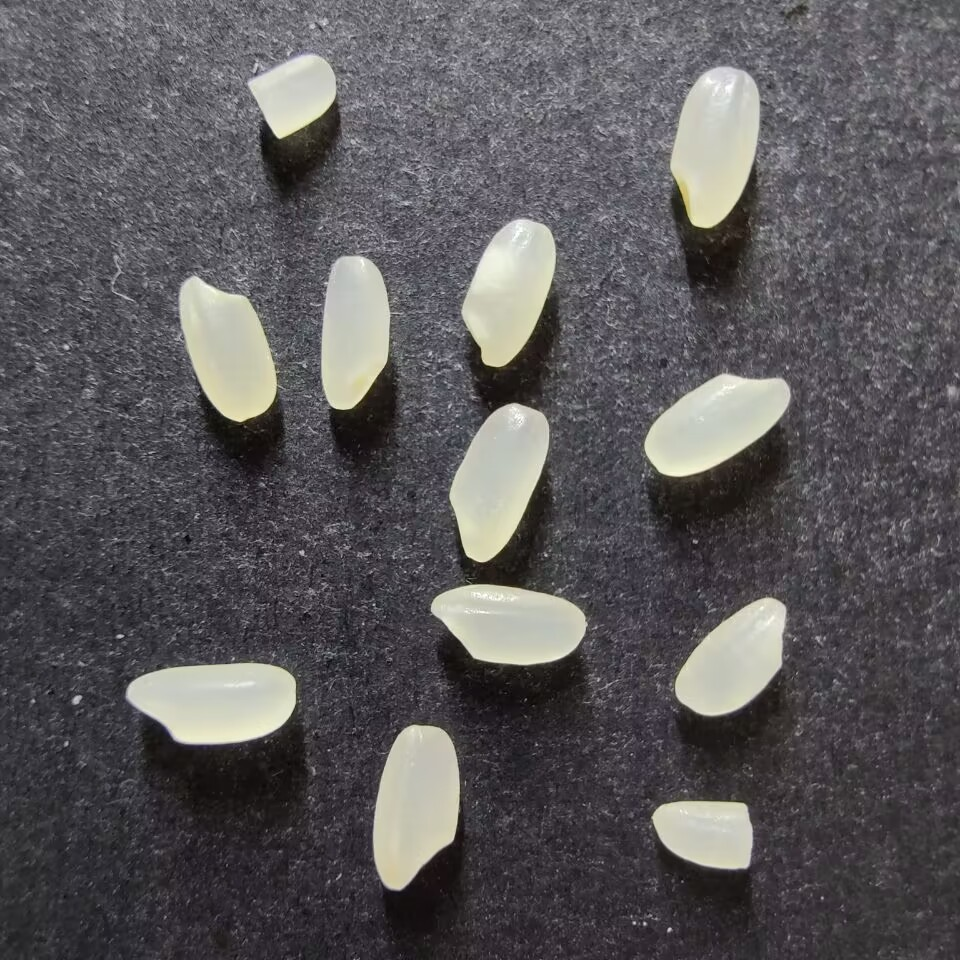broken: (246, 53, 336, 139), (651, 800, 754, 870)
rice: (448, 402, 550, 562), (643, 373, 790, 477), (668, 67, 761, 228), (371, 724, 460, 891), (178, 275, 277, 422), (460, 218, 556, 367), (125, 662, 297, 745), (673, 597, 787, 716), (429, 583, 586, 665), (319, 255, 391, 410)
